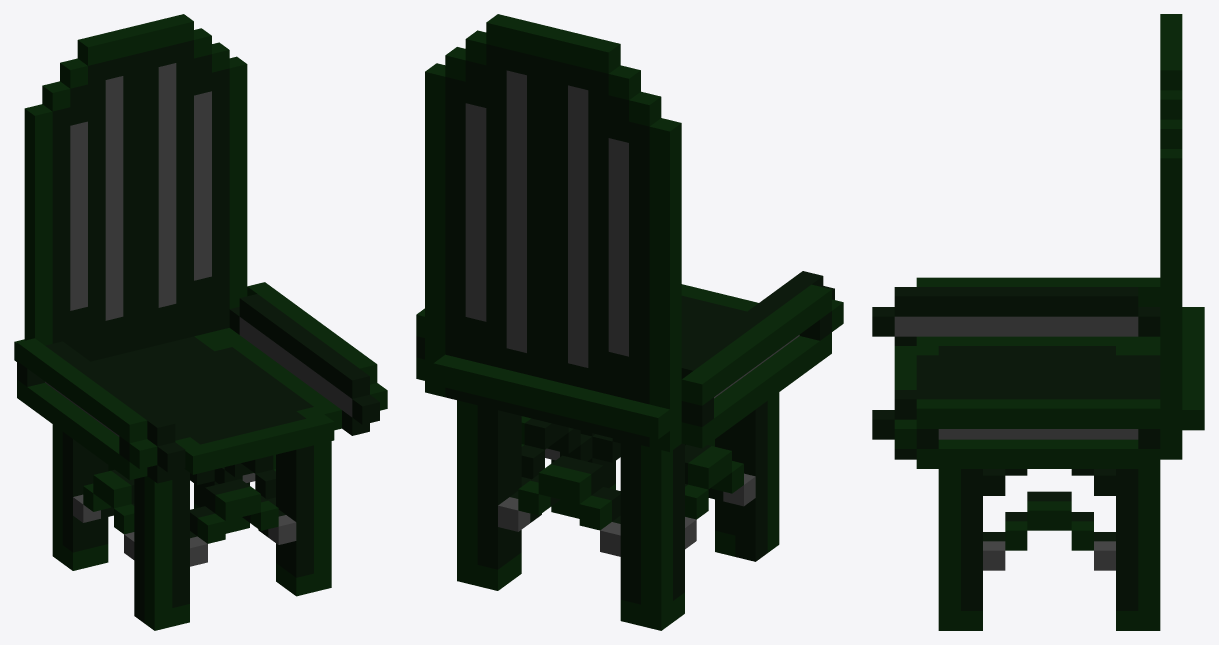
The model's file is prop_chair_dark_green.glb.
3 renders of one model, left to right at view 1: azimuth 30°, elevation 25°; view 2: azimuth 150°, elevation 25°; view 3: azimuth 270°, elevation 25°, orthographic. The views are drawn at different scales.
Parts seen in each view (by area): view 1: prop_chair_dark_green; view 2: prop_chair_dark_green; view 3: prop_chair_dark_green.
Boxes of the visible parts, x1,y1,x2,y2 form: prop_chair_dark_green: (14,14,387,630); prop_chair_dark_green: (416,14,843,630); prop_chair_dark_green: (872,14,1204,630).
Bounding box in the file's own units: 1.4 × 2.7 × 1.5.
Materials: 1 (1 with a texture image).
